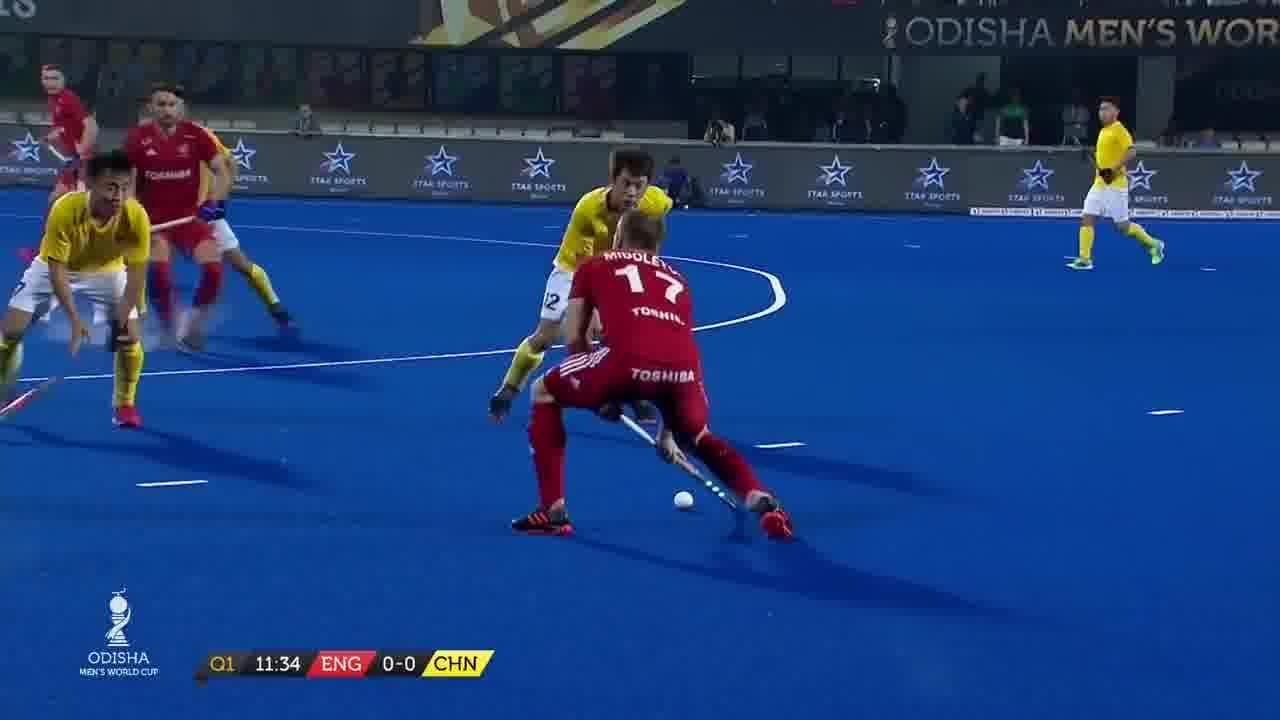ball: (670, 474, 698, 520)
